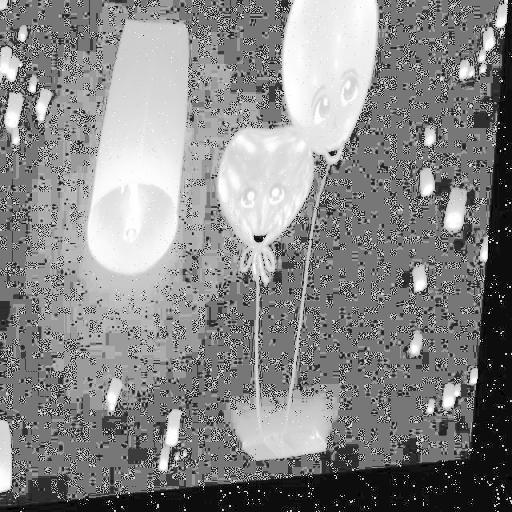balloon: (283, 0, 383, 168), (222, 130, 317, 264)
